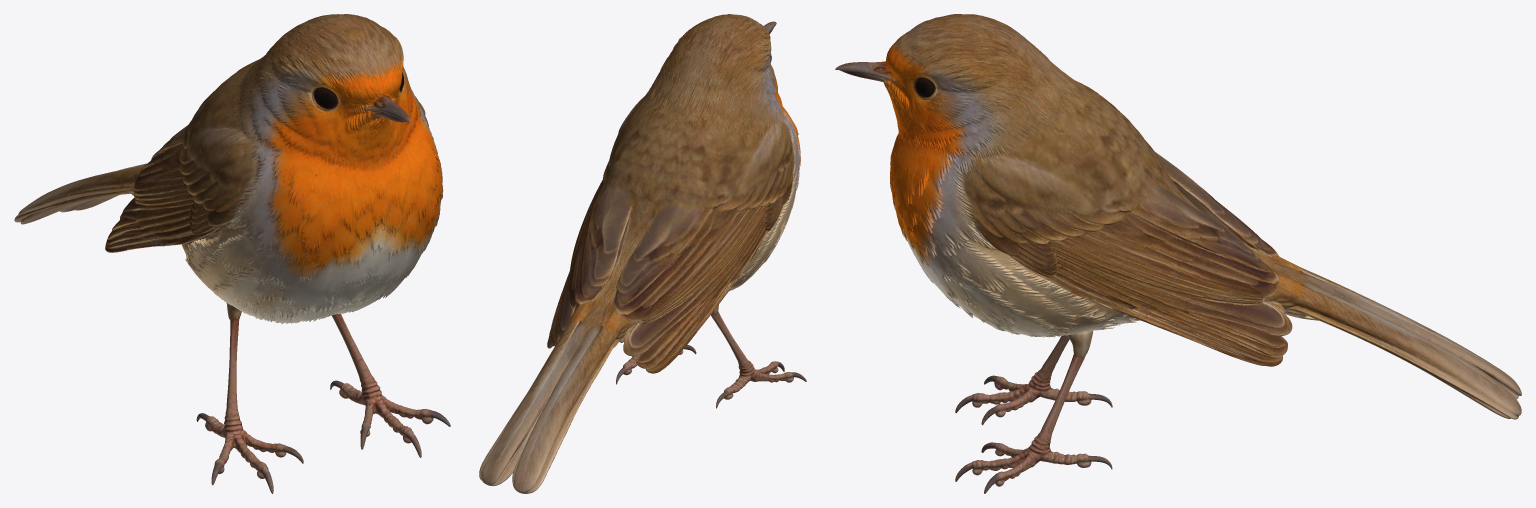
File: bird.glb
3 views of the same model, side by side, from view 1: azimuth 30°, elevation 25°; view 2: azimuth 150°, elevation 25°; view 3: azimuth 270°, elevation 25° (orthographic). The views are drawn at different scales.
Parts seen in each view (by area): view 1: bird; view 2: bird; view 3: bird.
Part boxes in pixels (x1,y1,x2,y2): bird: [14, 14, 450, 493]; bird: [479, 14, 806, 493]; bird: [835, 14, 1521, 493].
Size of the model in its own units: 0.0532 by 0.0962 by 0.14.
1 material, 1 textured.
